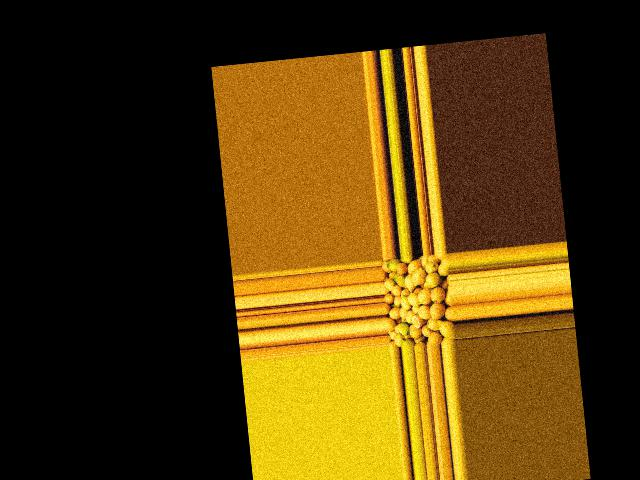lemon: (444, 292, 453, 306)
